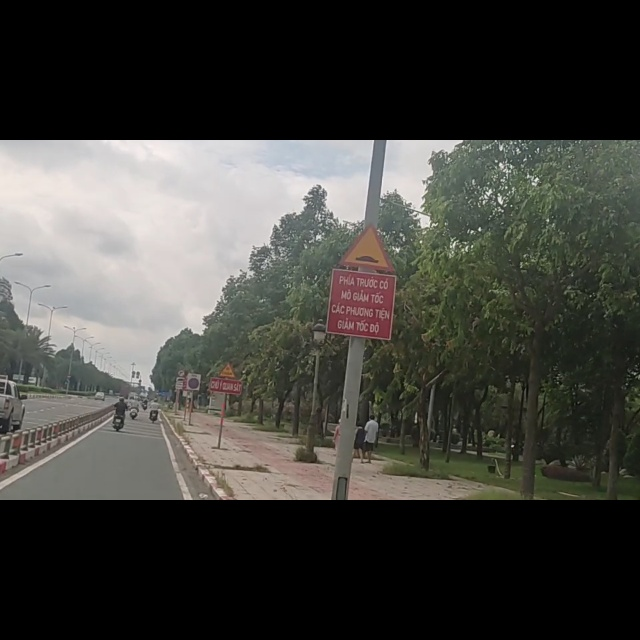bien_nguy_hiem: (334, 145, 398, 235), (217, 391, 237, 423), (186, 412, 201, 446), (177, 408, 185, 422)
